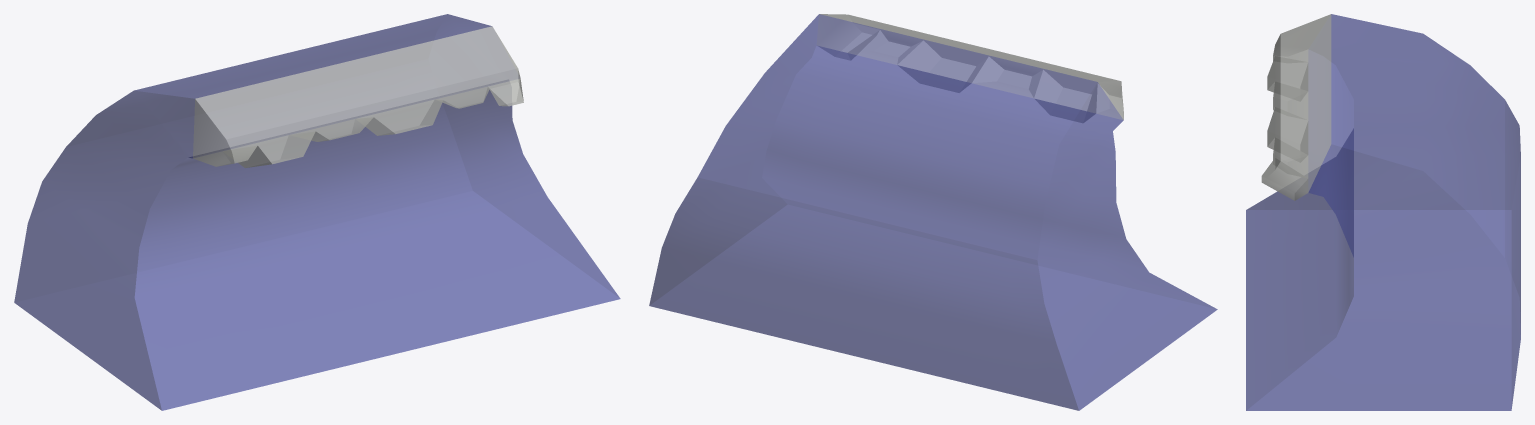
File: beach_wave.fbx
The picture shows the model from 3 angles, left to right: view 1: azimuth 30°, elevation 25°; view 2: azimuth 150°, elevation 25°; view 3: azimuth 270°, elevation 25°; orthographic projection. The views are drawn at different scales.
Parts seen in each view (by area): view 1: pCube13; view 2: pCube13; view 3: pCube13.
Part boxes in pixels (box(x1,y1,x2,y2)): pCube13: box(14, 14, 620, 410); pCube13: box(649, 14, 1217, 410); pCube13: box(1246, 14, 1520, 410).
Size of the model in its own units: 2.5 by 1.34 by 1.45.
